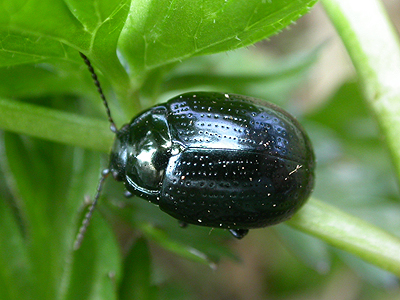Chrysolina_oricalcia: (67, 48, 320, 247)
